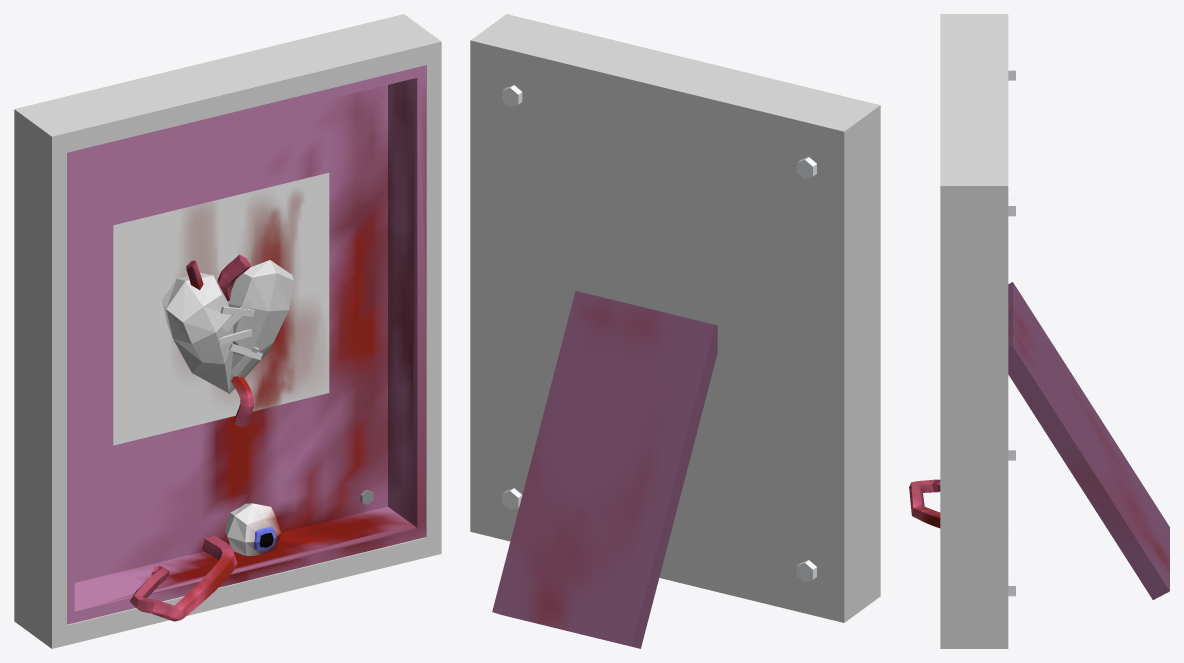
The model's file is ramka.fbx.
The picture shows the model from 3 angles, left to right: view 1: azimuth 30°, elevation 25°; view 2: azimuth 150°, elevation 25°; view 3: azimuth 270°, elevation 25°; orthographic projection. The views are drawn at different scales.
Visible parts, largest first — view 1: Box 1, Box 2, Plane, Sphere.001, Tube, Sphere, Sphere.002, Tube 2, Tube 3; view 2: Box 2, Box, Cylinder, Cylinder 1; view 3: Box 2, Box, Tube.
Boxes of the visible parts, x1,y1,x2,y2 form: Box 1: (67,65,425,624); Box 2: (14,14,441,648); Plane: (113,173,329,445); Sphere.001: (162,260,293,393); Tube: (130,535,237,621); Sphere: (225,503,281,555); Sphere.002: (218,299,262,376); Tube 2: (231,376,253,427); Tube 3: (217,254,250,301); Box 2: (470,14,880,622); Box: (492,291,717,648); Cylinder: (502,85,816,179); Cylinder 1: (502,488,816,582); Box 2: (940,14,1008,648); Box: (1008,282,1169,599); Tube: (909,479,940,528).
Size of the model in its own units: 71 by 89.3 by 45.53.
